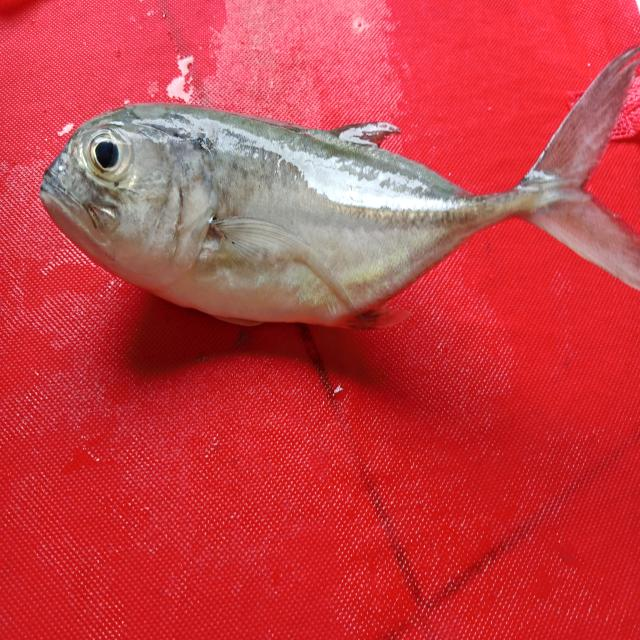ikan: (34, 68, 632, 335)
